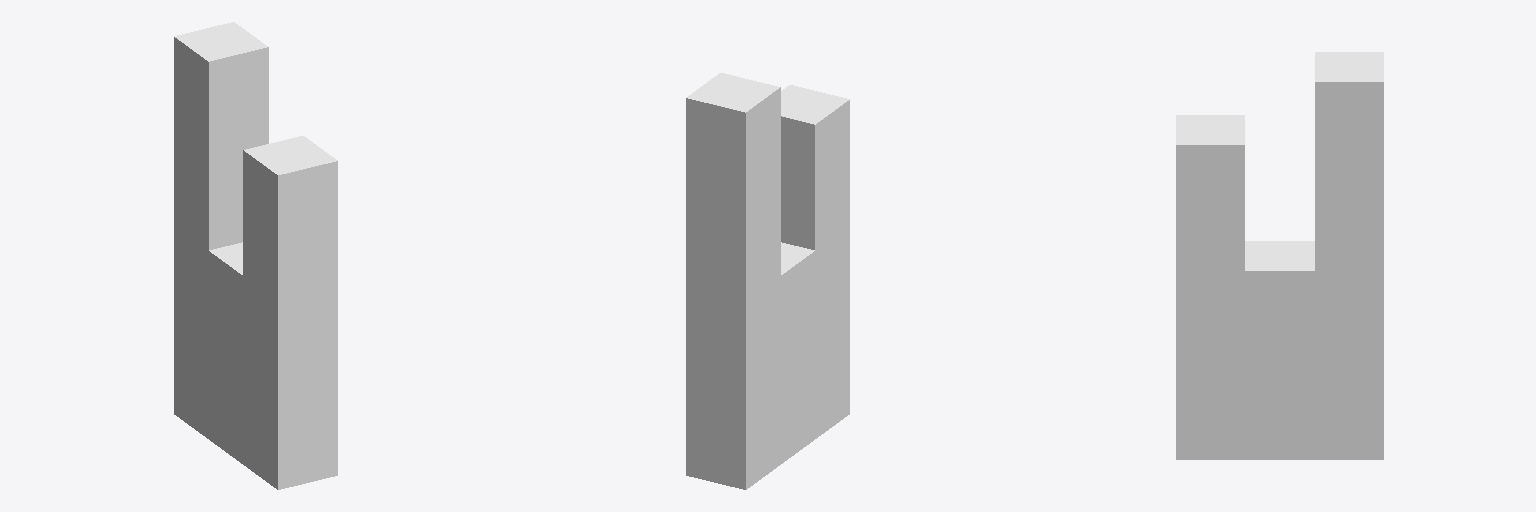
Rendered from SH_Enviorment-17-Large_BoardC.obj.
3 renders of one model, left to right at view 1: azimuth 30°, elevation 25°; view 2: azimuth 150°, elevation 25°; view 3: azimuth 270°, elevation 25°, orthographic.
Visible parts, largest first — view 1: Large_BoardC; view 2: Large_BoardC; view 3: Large_BoardC.
Part boxes in pixels (left/top/right/bottom): Large_BoardC: left=174, top=22, right=337, bottom=489; Large_BoardC: left=686, top=73, right=849, bottom=489; Large_BoardC: left=1176, top=52, right=1383, bottom=459.
Bounding box in the file's own units: 0.1 × 0.6 × 0.3.